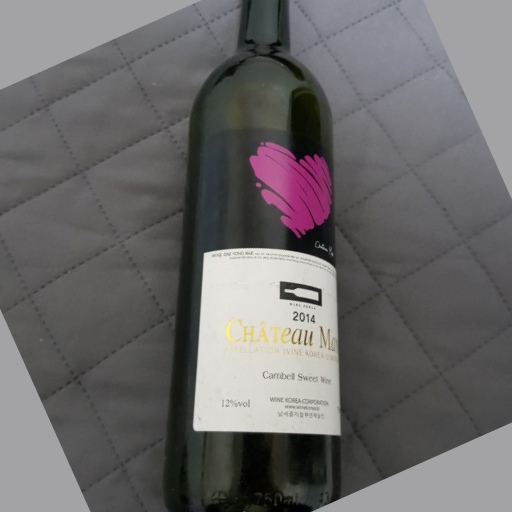Glass_2: (167, 1, 343, 512)
